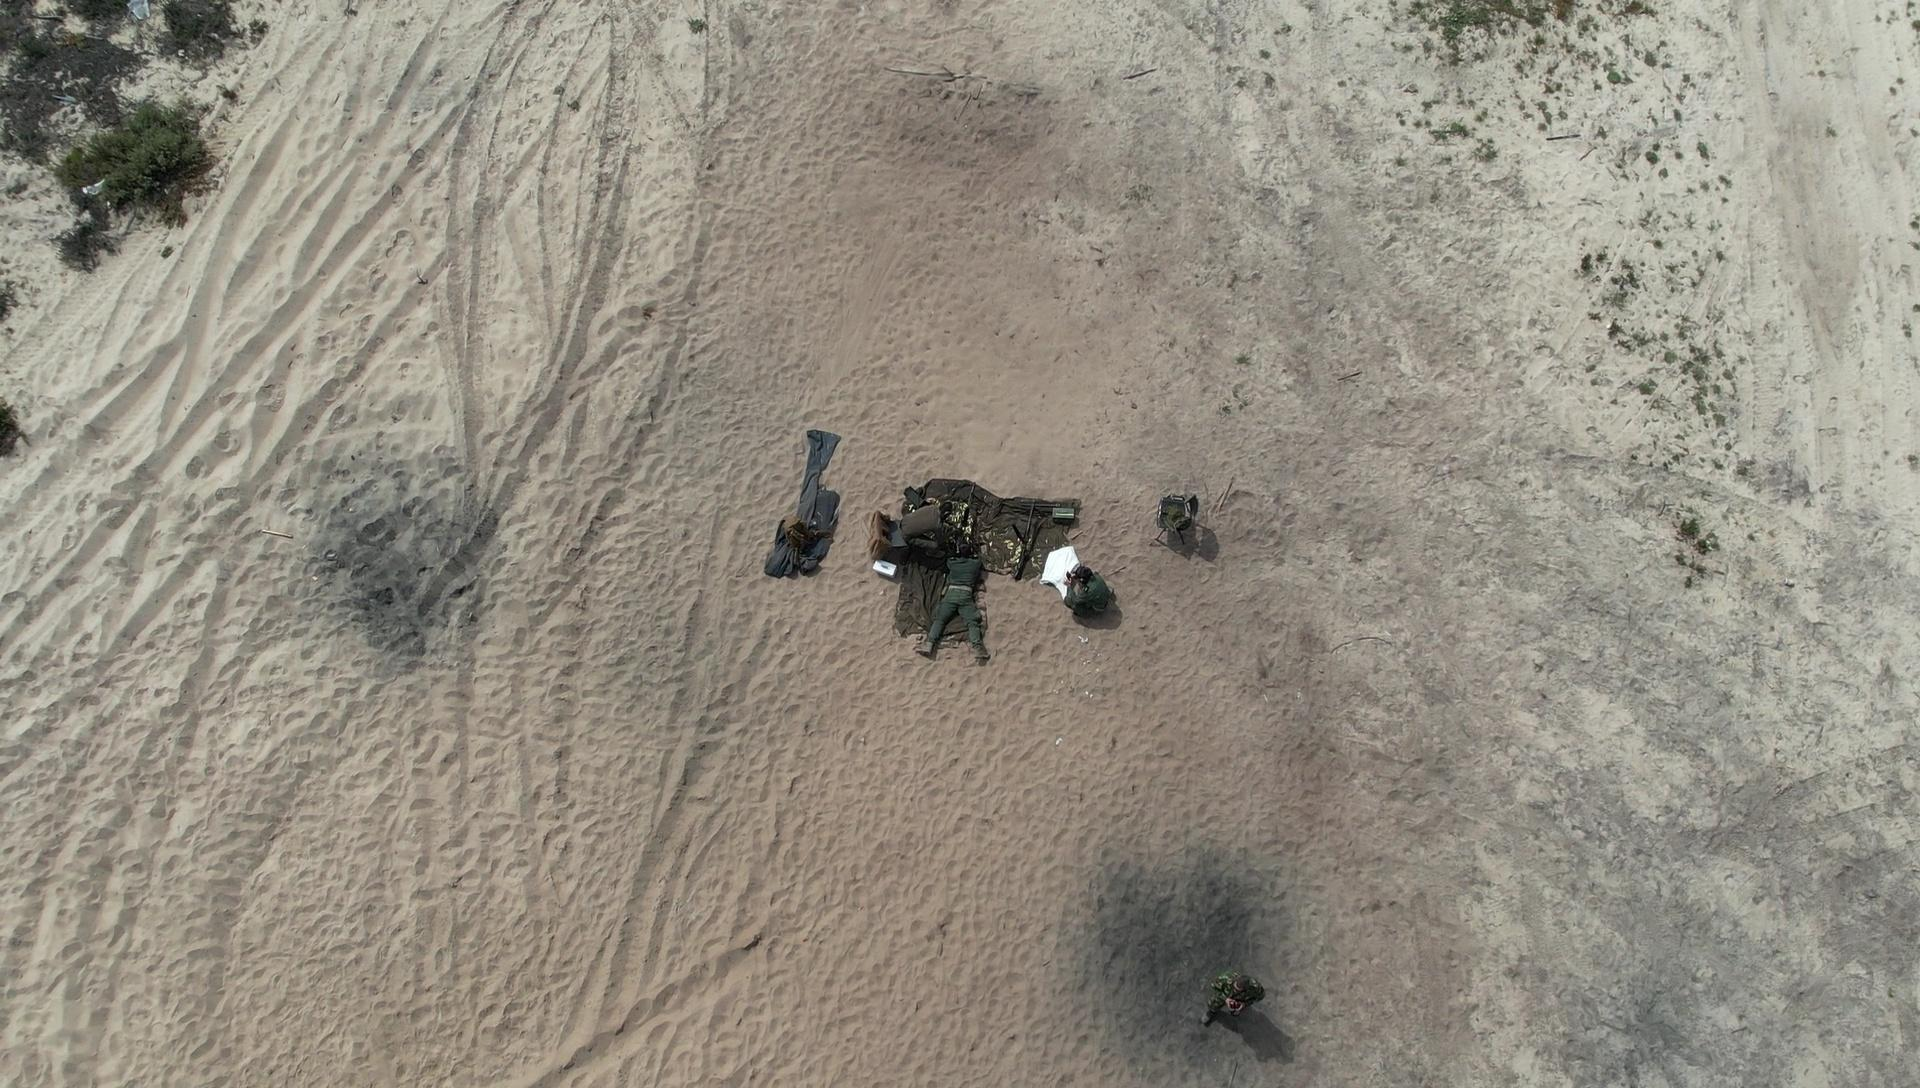Soldier: (907, 518, 992, 659), (1063, 550, 1122, 655), (891, 497, 976, 568), (1200, 959, 1271, 1041)
